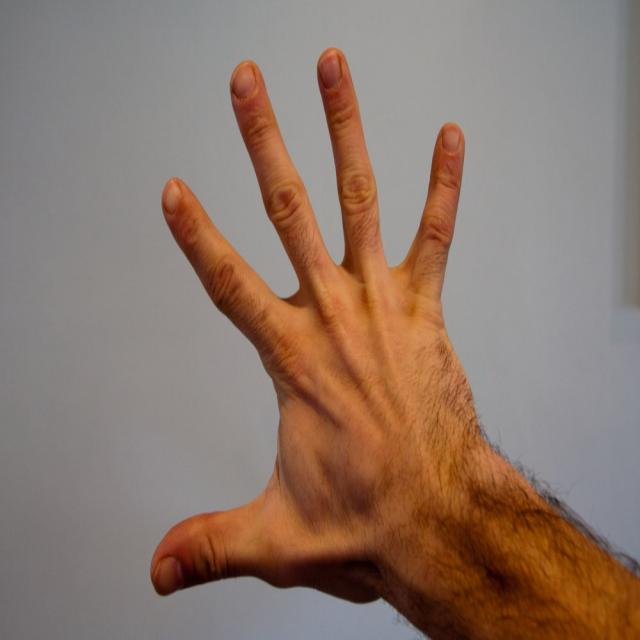bare_hand: (148, 47, 481, 605)
